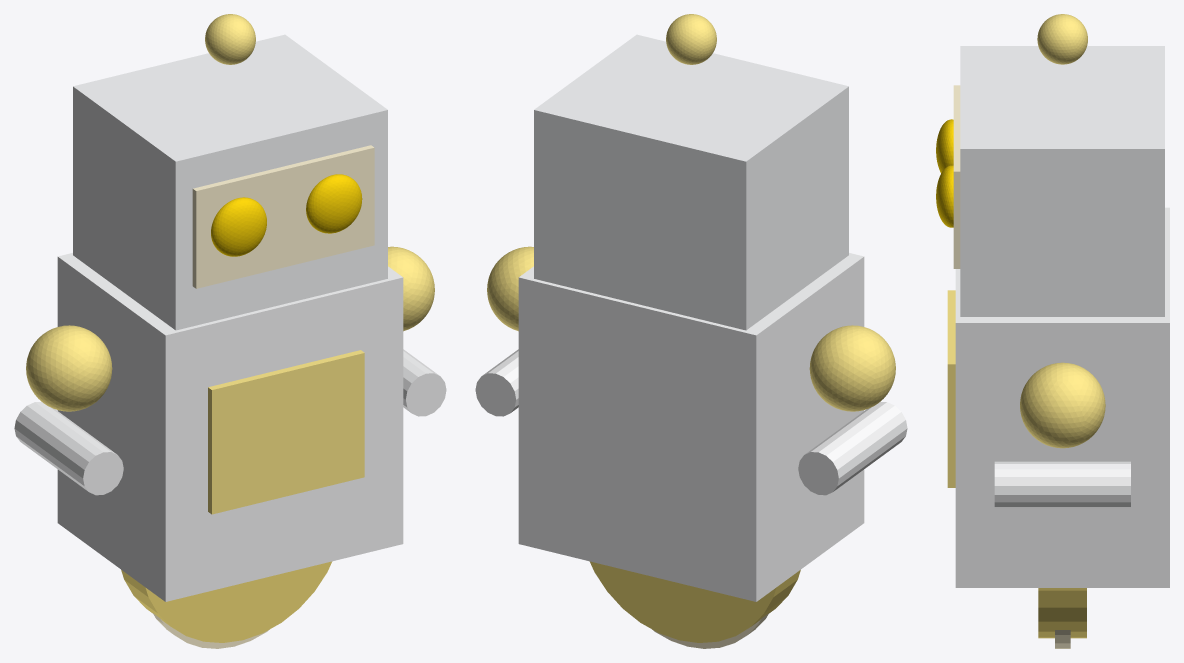
Rendered from nova.glb.
The picture shows the model from 3 angles, left to right: view 1: azimuth 30°, elevation 25°; view 2: azimuth 150°, elevation 25°; view 3: azimuth 270°, elevation 25°; orthographic projection.
Parts seen in each view (by area): view 1: body, head, panel, visor, base, shoulder0, arm0, eye1, eye0, shoulder1, antenna_ball, arm1 (+1 smaller); view 2: body, head, base, shoulder0, arm0, shoulder1, antenna_ball, arm1, ring; view 3: head, body, arm1, shoulder1, base, antenna_ball, panel, visor, eye1, eye0.
Boxes of the visible parts, x1,y1,x2,y2 form: body: (57,253,403,601); head: (73,34,387,330); panel: (208,350,364,514); visor: (192,145,374,288); base: (121,561,332,642); shoulder0: (26,325,112,411); arm0: (14,402,123,495); eye1: (306,174,362,233); eye0: (211,197,266,256); shoulder1: (388,246,434,331); antenna_ball: (205,14,255,64); arm1: (403,349,446,416); body: (518,253,864,601); head: (534,34,848,330); base: (589,561,800,642); shoulder0: (809,325,895,411); arm0: (798,402,907,495); shoulder1: (487,246,533,331); antenna_ball: (666,14,716,64); arm1: (475,349,518,416); ring: (652,613,768,648); head: (960,46,1164,316); body: (955,207,1169,587); arm1: (994,461,1130,508); shoulder1: (1020,362,1105,448); base: (1038,588,1086,638); antenna_ball: (1037,14,1087,64); panel: (947,290,955,487); visor: (953,85,960,268); eye1: (936,165,953,227); eye0: (936,119,953,173).
Size of the model in its own units: 2.34 by 3.53 by 1.2.
